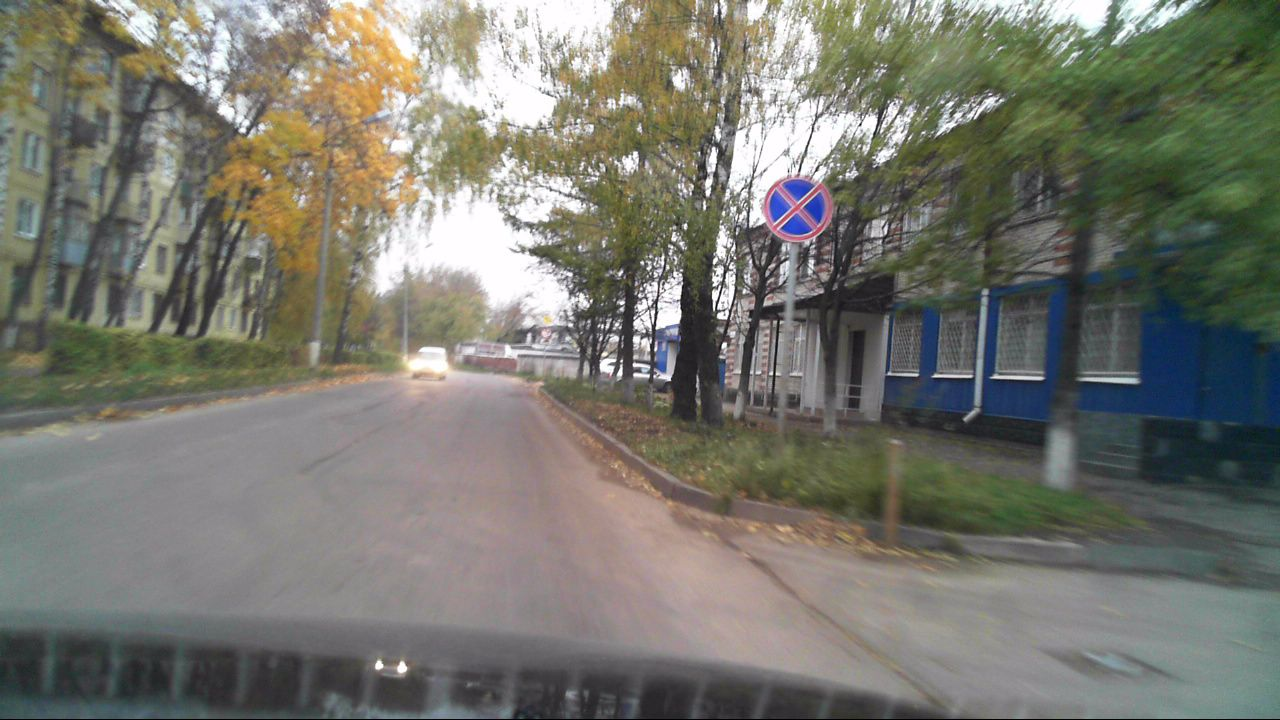No Parking: (763, 176, 832, 243)
